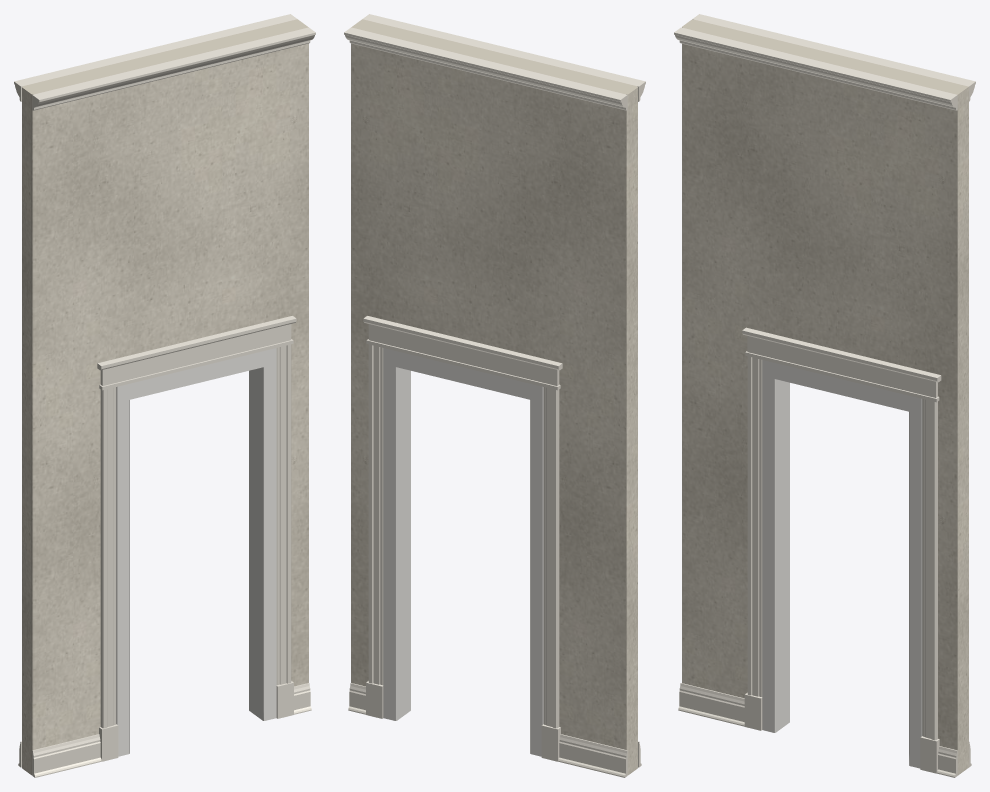
Rendered from interior_wall_end_doorway.glb.
The picture shows the model from 3 angles, left to right: view 1: azimuth 30°, elevation 25°; view 2: azimuth 150°, elevation 25°; view 3: azimuth 330°, elevation 25°; orthographic projection.
Visible parts, largest first — view 1: interior_wall_end_doorway_plaster, molduras, interior_wall_end_doorway_frame; view 2: interior_wall_end_doorway_plaster, molduras, interior_wall_end_doorway_frame; view 3: interior_wall_end_doorway_plaster, molduras, interior_wall_end_doorway_frame.
Boxes of the visible parts, box(x1,y1,x2,y2) form: interior_wall_end_doorway_plaster: box(22, 19, 308, 775); molduras: box(14, 14, 315, 777); interior_wall_end_doorway_frame: box(116, 348, 276, 756); interior_wall_end_doorway_plaster: box(351, 19, 637, 775); molduras: box(344, 14, 645, 777); interior_wall_end_doorway_frame: box(383, 348, 543, 756); interior_wall_end_doorway_plaster: box(682, 19, 968, 775); molduras: box(674, 14, 975, 777); interior_wall_end_doorway_frame: box(762, 360, 922, 768).
Size of the model in its own units: 1.7 by 4 by 0.27.
Materials: 3 (1 with a texture image).
